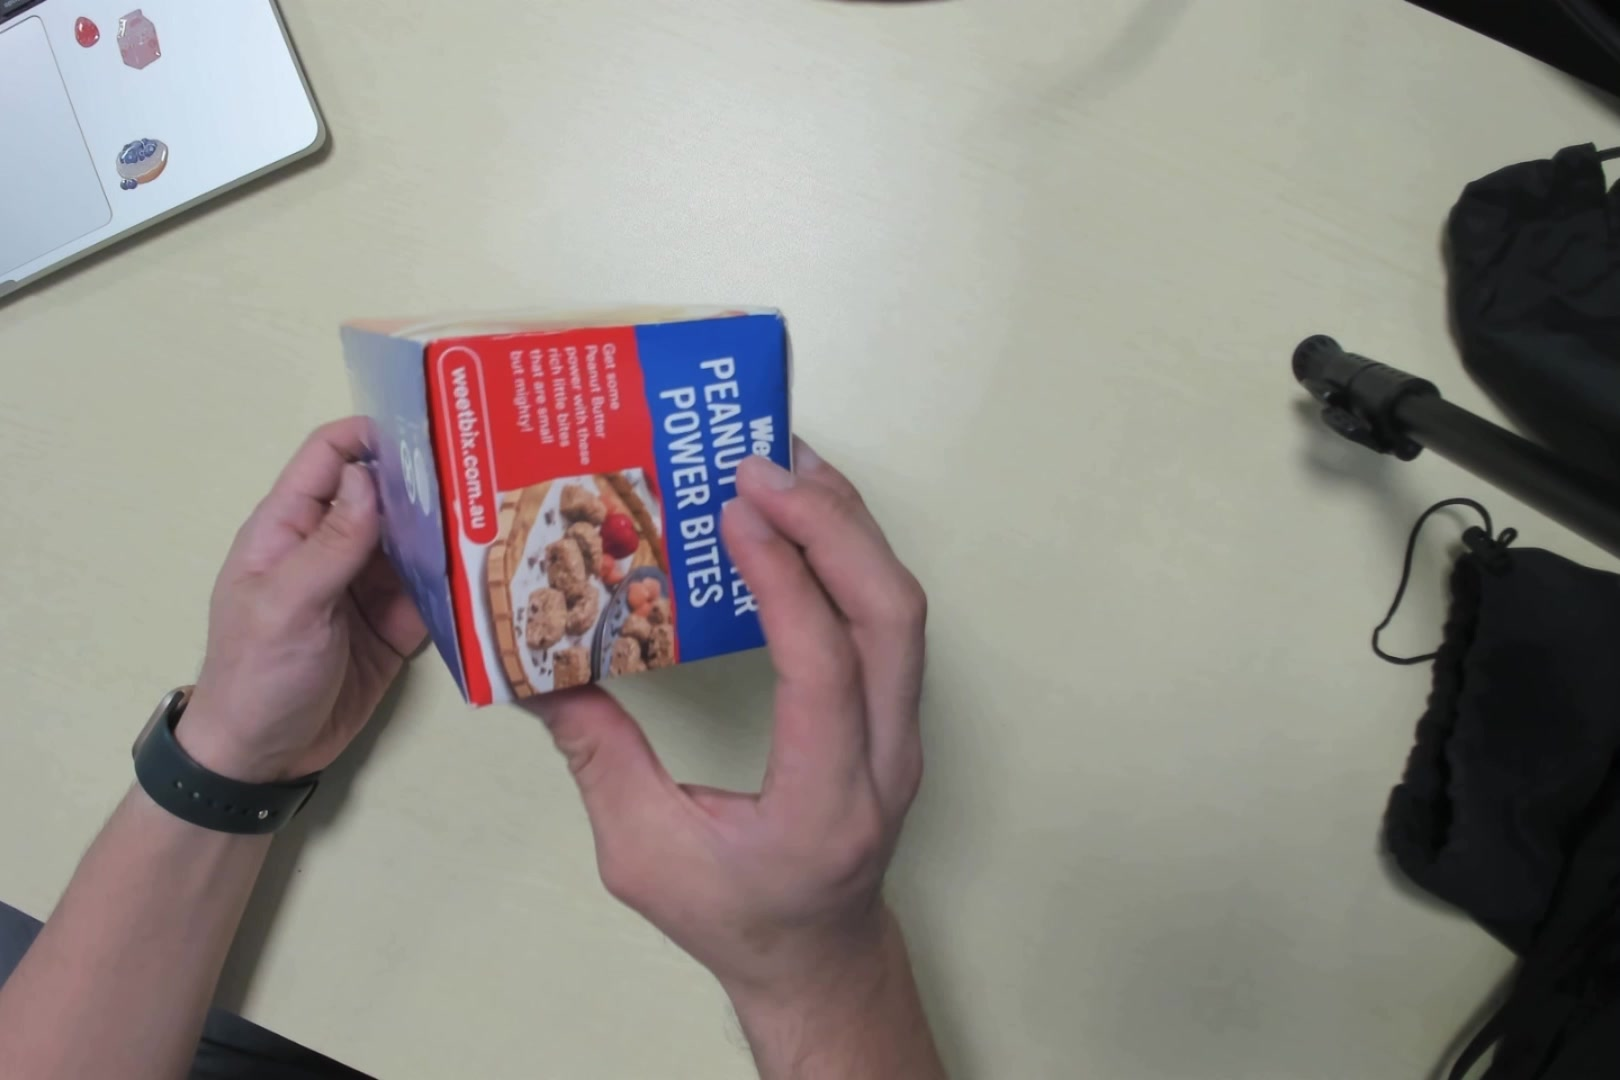BreakfastCereals_300-399g_NonHalal_NonHealthy: (336, 306, 805, 708)
